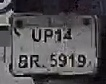1: (68, 52, 77, 71), (55, 27, 63, 46)
4: (63, 29, 73, 46)
5: (50, 52, 58, 73)
9: (59, 52, 68, 71), (76, 53, 86, 70)
B: (17, 53, 29, 73)
P: (43, 27, 55, 45)
R: (30, 48, 41, 73)
U: (31, 25, 42, 43)
